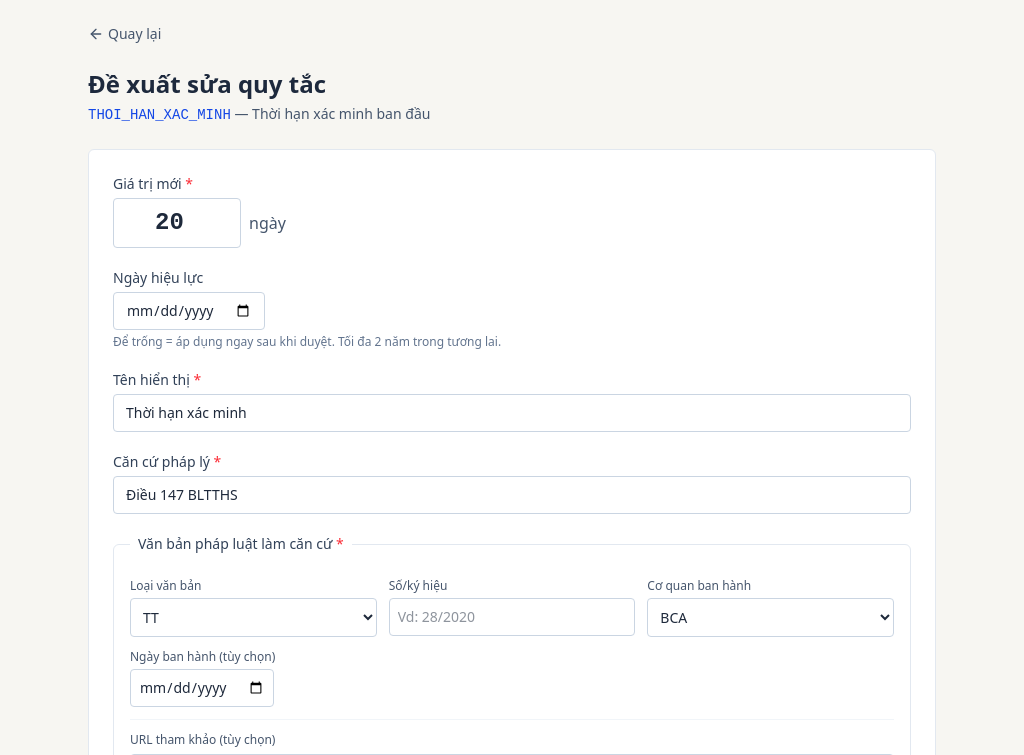
ProposeDeadlineRulePage › rejects submit when reason is too short (< 20 chars)
Expected: the number field with test id "input-value" holds "20", [113,198,241,248]
Note: Fill all earlier required fields (validate fails on the first missing one)
Type "28/2020" into the field with test id "input-doc-number" at (512, 617), box [389,598,635,636]
(page scrolled)
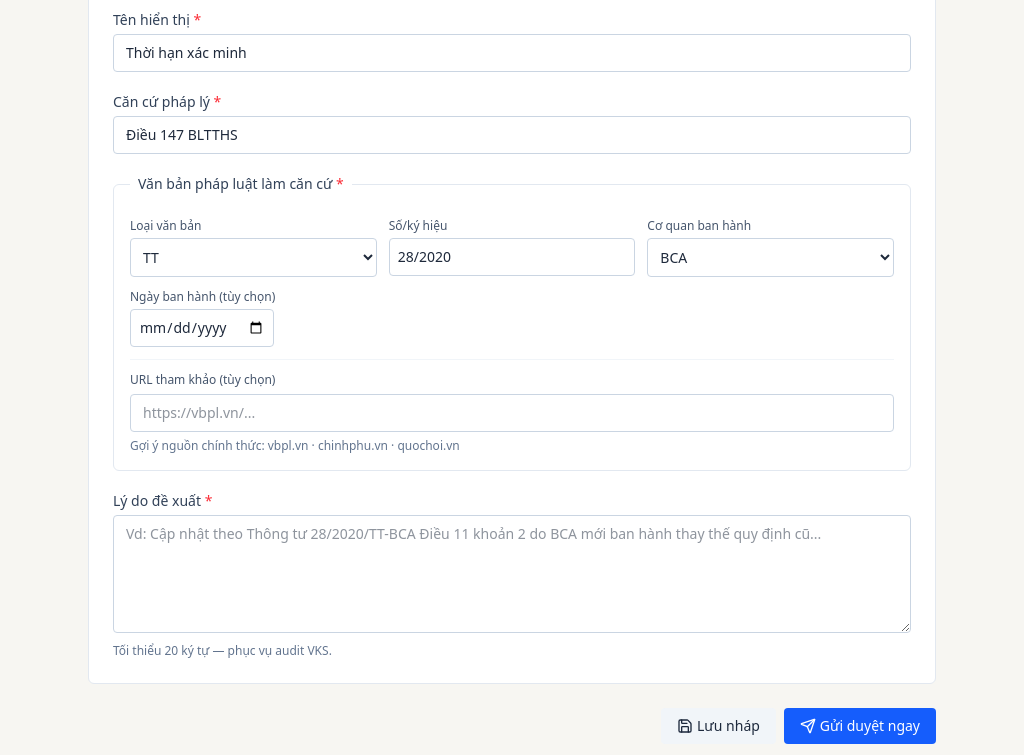
Replace the text in the text box with test id "input-reason" with "short" at (512, 574), box [113,515,911,633]
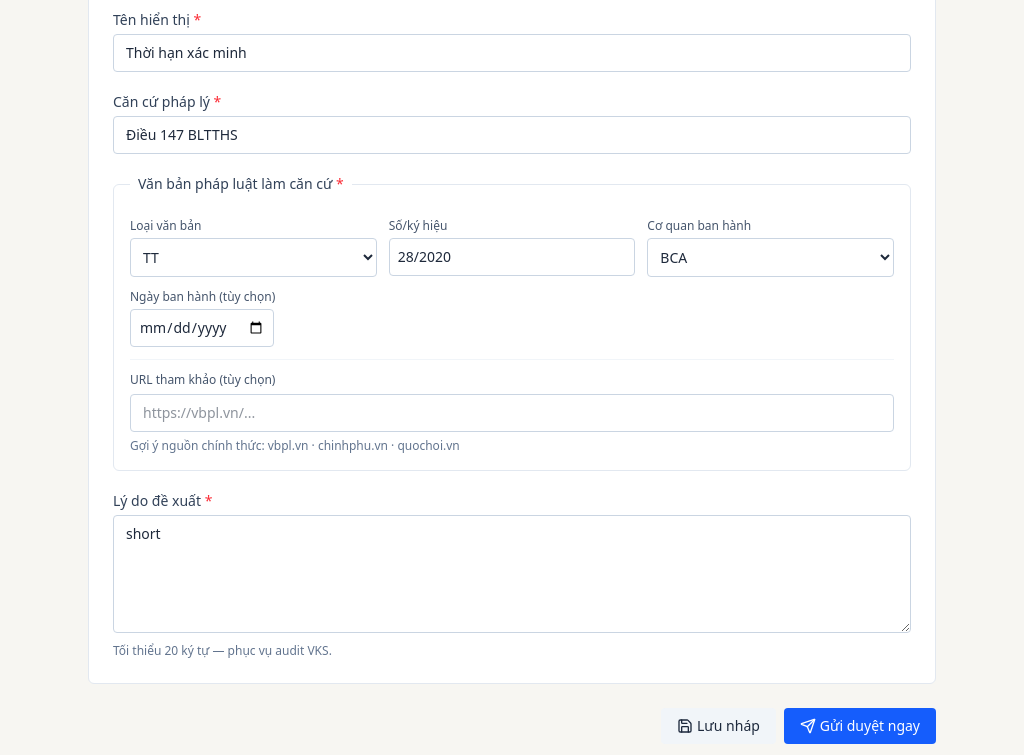
Click the button with test id "btn-submit" at (860, 726), box [784,708,936,744]
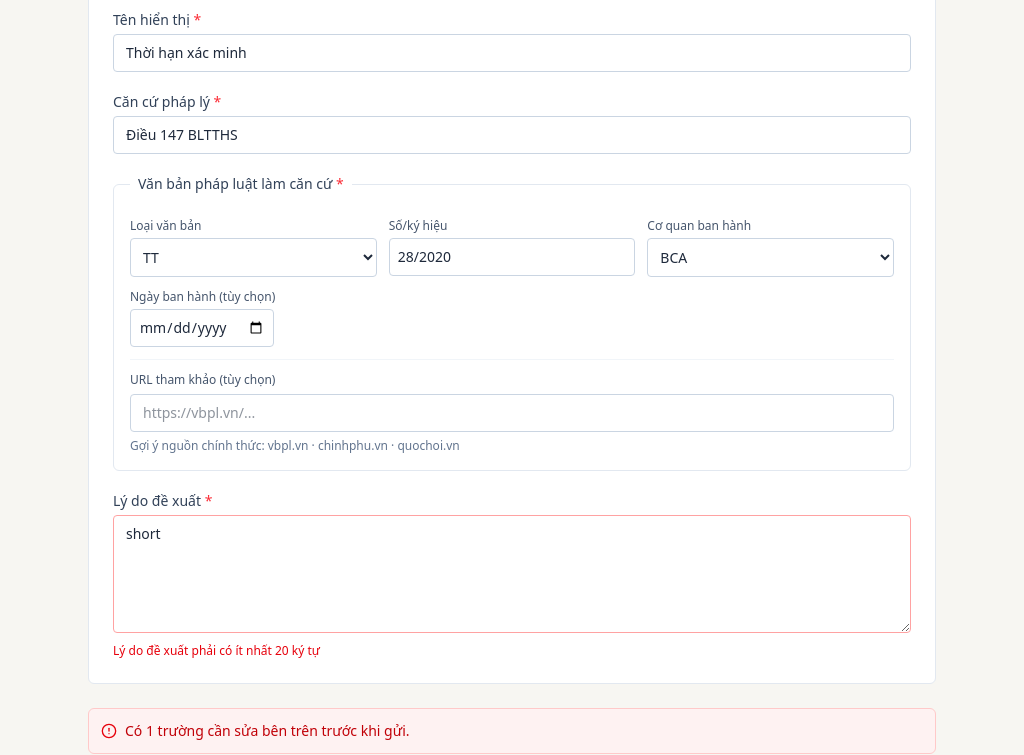
Expected: the text "Lý do đề xuất phải có ít nhất 20 ký tự" is shown, [113,642,320,659]
